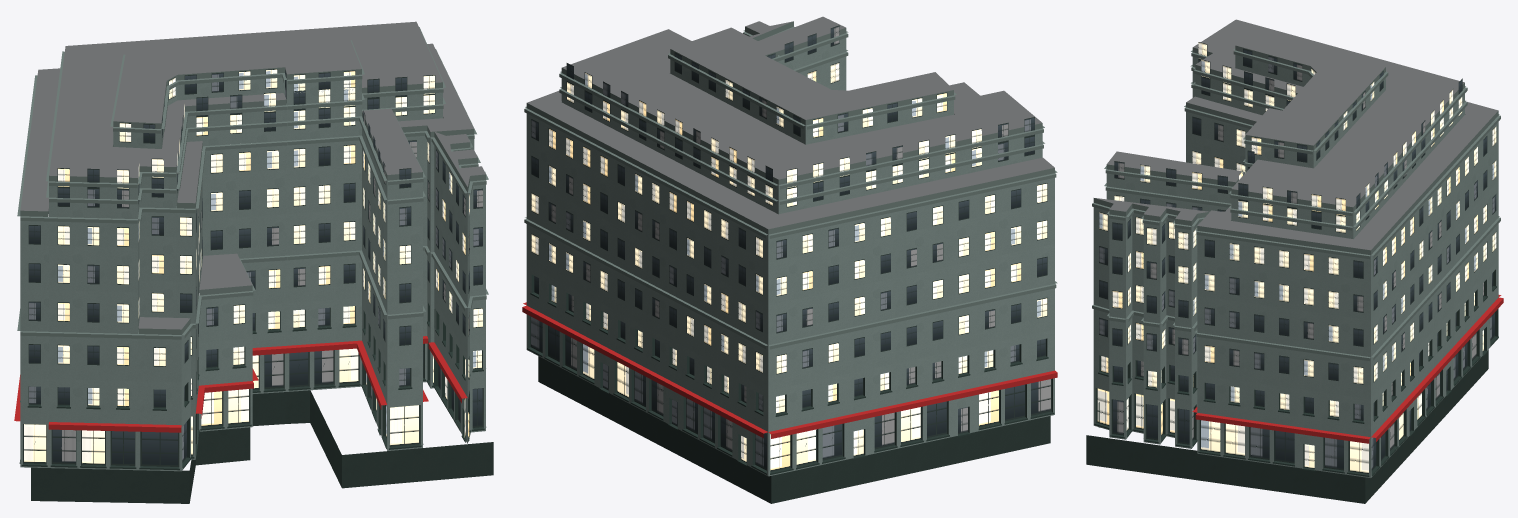
Rendered from z1L_bahnhofplatz_teal.glb.
3 views of the same model, side by side, from view 1: azimuth 30°, elevation 25°; view 2: azimuth 150°, elevation 25°; view 3: azimuth 270°, elevation 25° (orthographic). The views are drawn at different scales.
Visible parts, largest first — view 1: z1L_bahnhofplatz_teal; view 2: z1L_bahnhofplatz_teal; view 3: z1L_bahnhofplatz_teal.
Boxes of the visible parts, <box> form: z1L_bahnhofplatz_teal: <box>14,21,493,503</box>; z1L_bahnhofplatz_teal: <box>522,16,1057,503</box>; z1L_bahnhofplatz_teal: <box>1086,19,1503,503</box>.
Size of the model in its own units: 46.14 by 31.57 by 38.33.
Materials: 3 (3 with a texture image).
